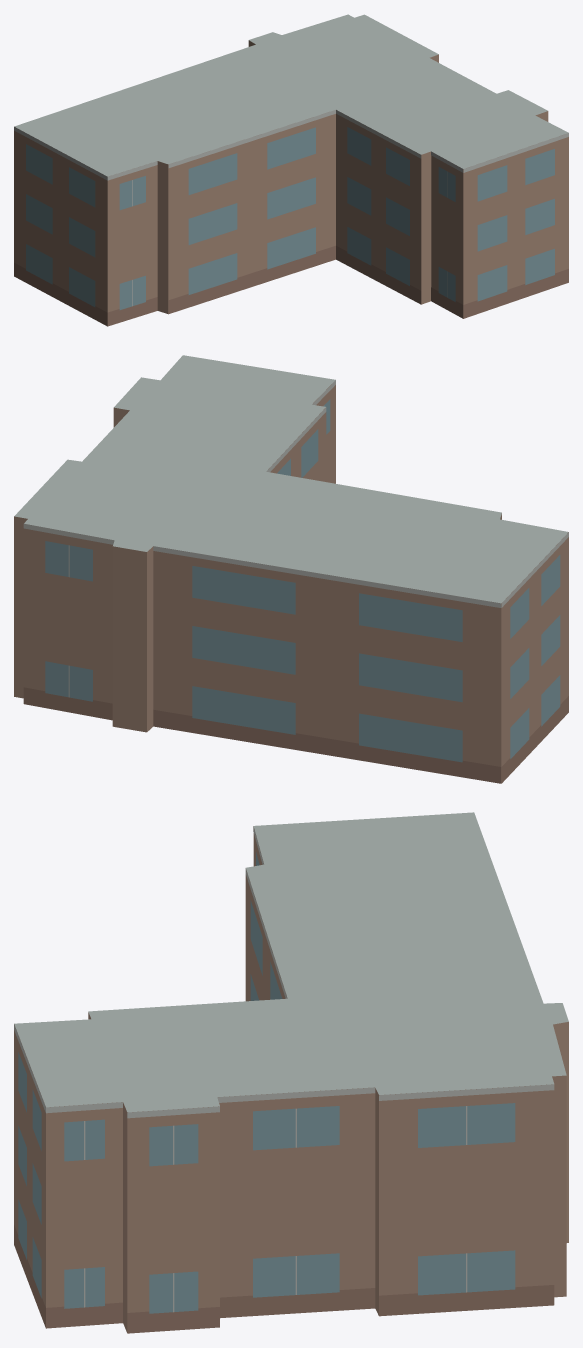
The model's file is survey-upis-33036956.glb.
3 renders of one model, top to bottom at view 1: azimuth 30°, elevation 25°; view 2: azimuth 150°, elevation 25°; view 3: azimuth 270°, elevation 25°, orthographic. The views are drawn at different scales.
Visible parts, largest first — view 1: survey-upis-33036956.tmp; view 2: survey-upis-33036956.tmp; view 3: survey-upis-33036956.tmp.
Part boxes in pixels (<box>): survey-upis-33036956.tmp: <box>14,14,568,326</box>; survey-upis-33036956.tmp: <box>14,355,568,783</box>; survey-upis-33036956.tmp: <box>14,812,568,1333</box>.
Bounding box in the file's own units: 26.65 × 9.15 × 20.82.
